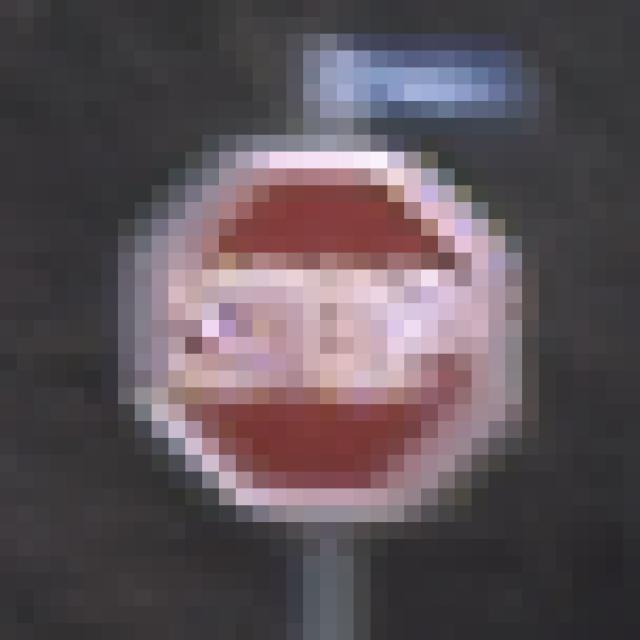STOP: (102, 102, 557, 557)
